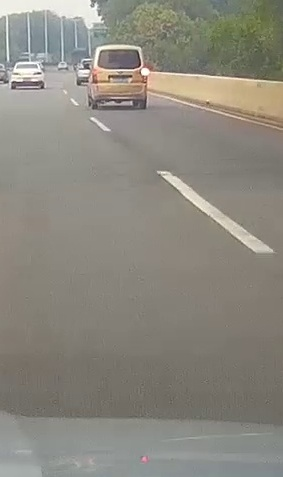L_light: (92, 68, 98, 83), (12, 72, 19, 76)
R_light: (142, 68, 147, 83), (33, 71, 42, 75)
T_light: (115, 49, 123, 52), (24, 64, 31, 65)
day-no: (10, 62, 44, 89)
day-right: (91, 45, 148, 109)
